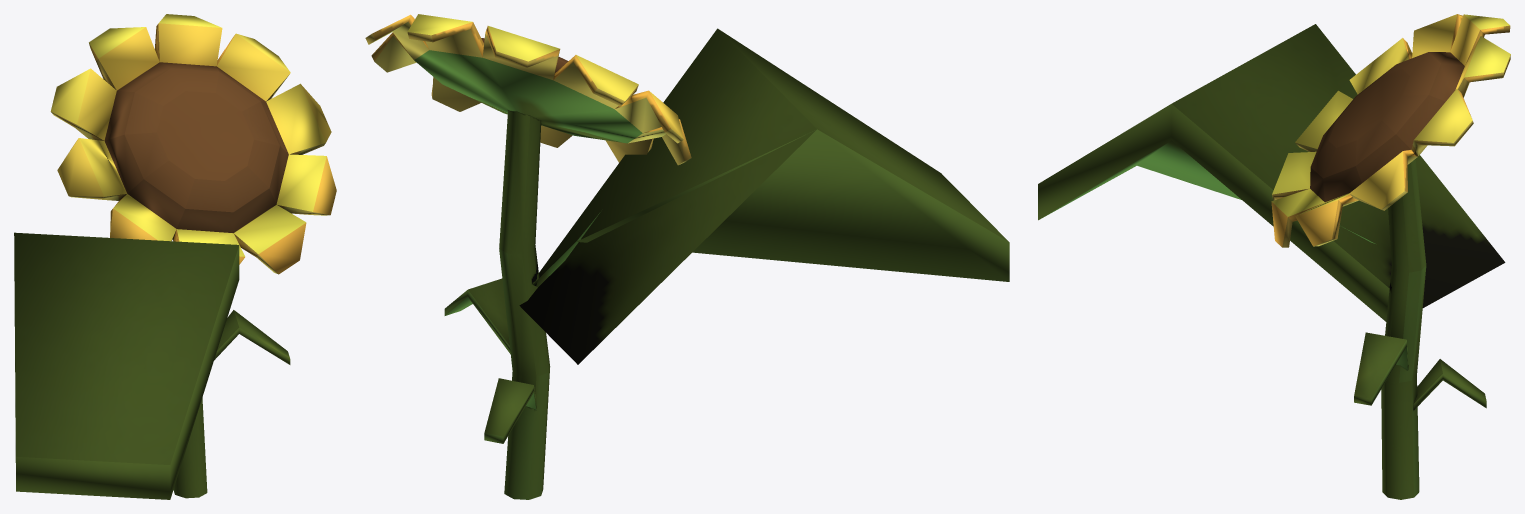
The model's file is sunflower1.gltf.
3 views of the same model, side by side, from view 1: azimuth 30°, elevation 25°; view 2: azimuth 150°, elevation 25°; view 3: azimuth 270°, elevation 25° (orthographic). The views are drawn at different scales.
Visible parts, largest first — view 1: sunflower; view 2: sunflower; view 3: sunflower.
Part boxes in pixels (left/top/right/bottom): sunflower: left=14, top=14, right=336, bottom=499; sunflower: left=365, top=14, right=1009, bottom=499; sunflower: left=1038, top=14, right=1510, bottom=499.
Bounding box in the file's own units: 0.5986 × 0.5804 × 0.5413.
Materials: 1 (1 with a texture image).
